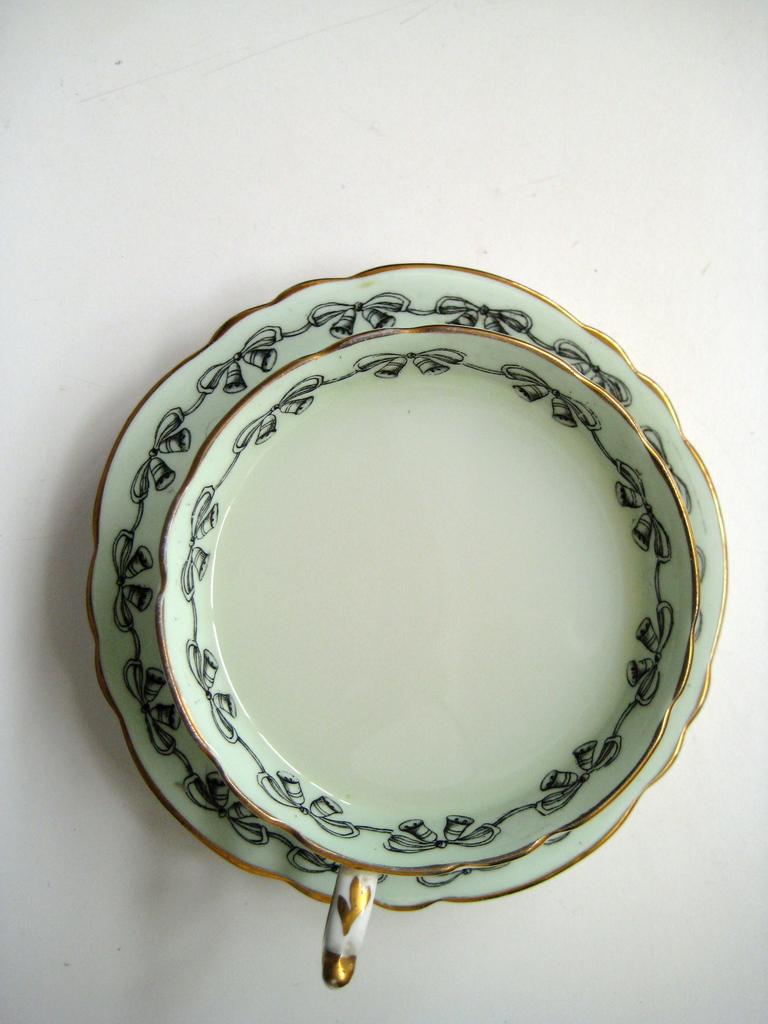plate: (86, 262, 728, 911)
